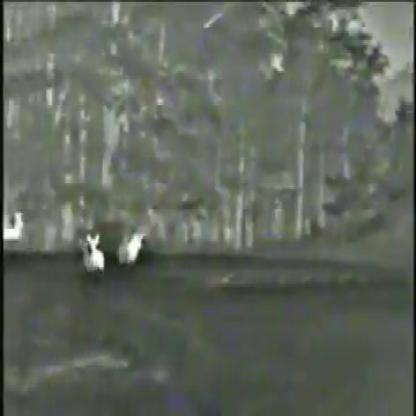rehkitze: (118, 229, 143, 270), (87, 231, 107, 272)
